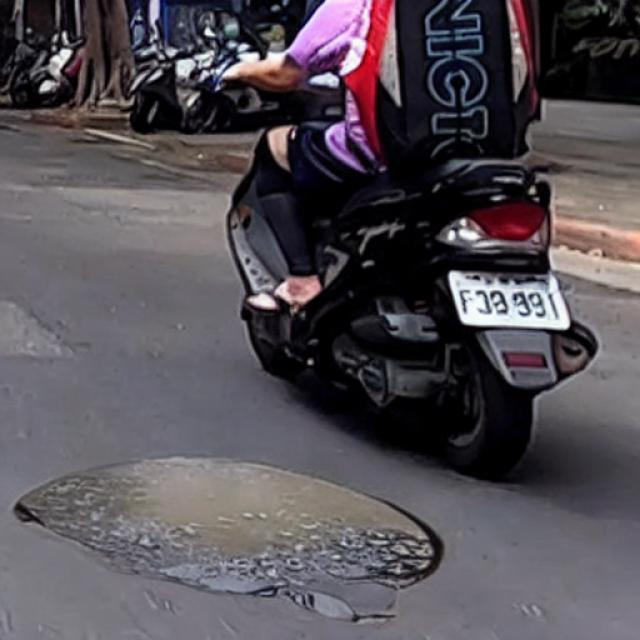puddle: (24, 458, 442, 606)
